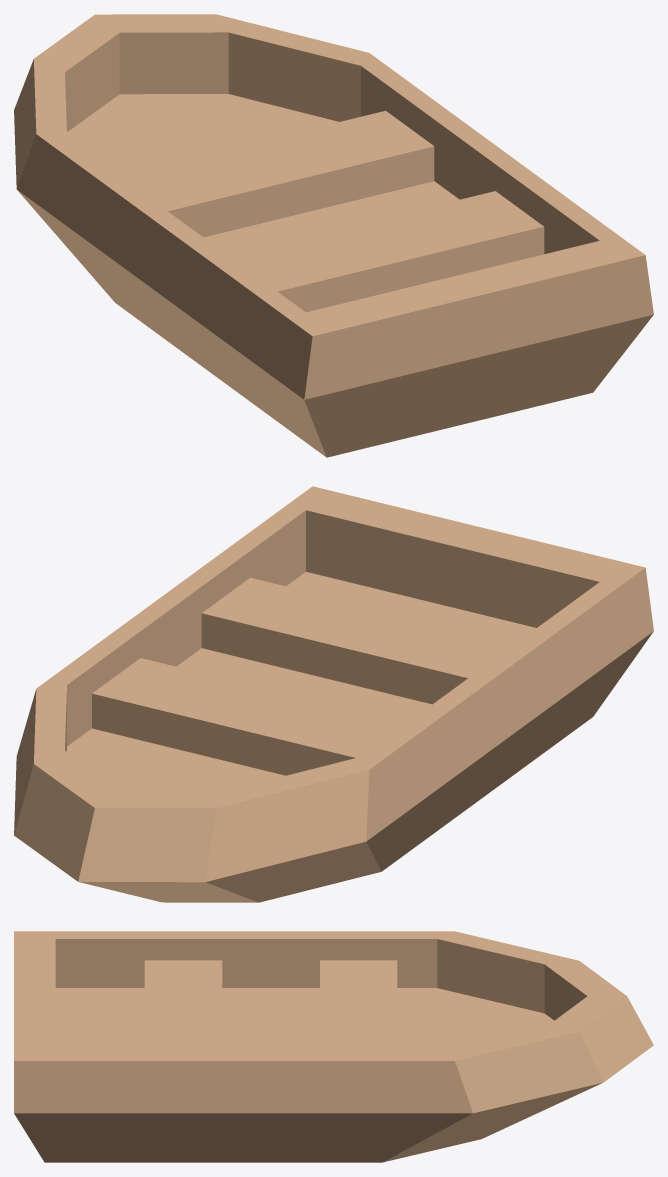
Rendered from boat_large.gltf.
3 views of the same model, one above another, from view 1: azimuth 30°, elevation 25°; view 2: azimuth 150°, elevation 25°; view 3: azimuth 270°, elevation 25° (orthographic). The views are drawn at different scales.
Visible parts, largest first — view 1: boat_large_8angles; view 2: boat_large_8angles; view 3: boat_large_8angles.
Part boxes in pixels (x1,y1,x2,y2): boat_large_8angles: (14, 14, 653, 457); boat_large_8angles: (14, 486, 653, 902); boat_large_8angles: (14, 931, 653, 1162).
Size of the model in its own units: 0.8925 by 0.35 by 1.77.
